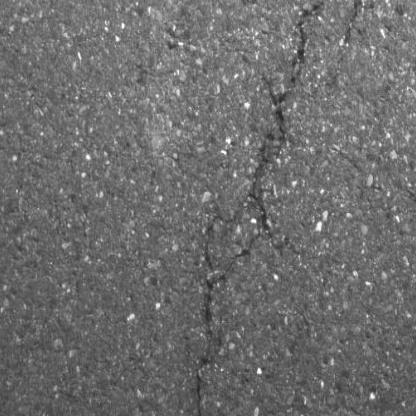Cracks: (185, 0, 337, 416), (345, 0, 364, 27)
